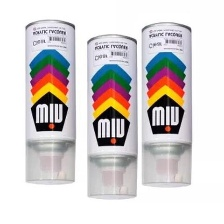aerosol_cans: (138, 19, 196, 191), (83, 31, 140, 205), (20, 17, 77, 188)
